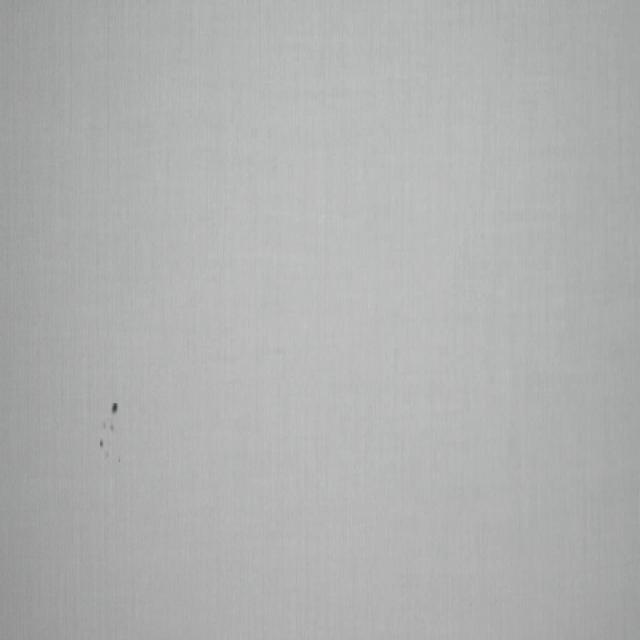dirty: (98, 400, 120, 452)
